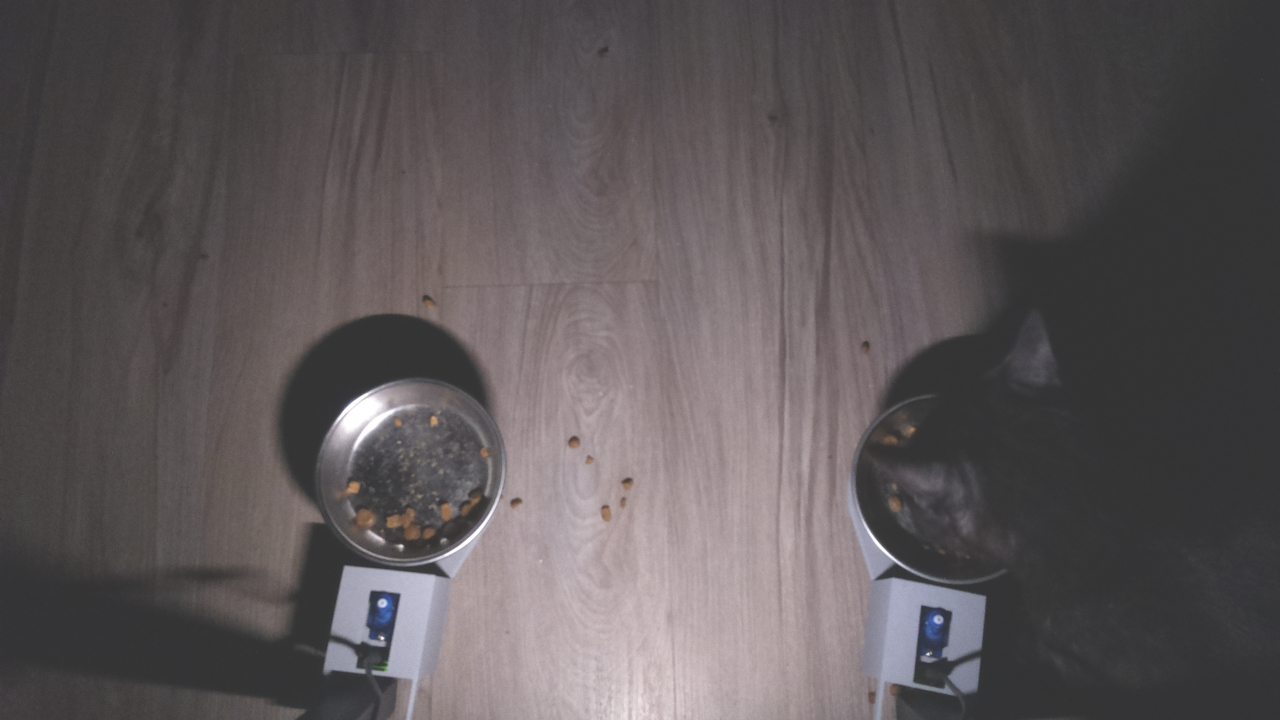open_bowl: (304, 372, 511, 576)
saki_eating: (844, 300, 1125, 601)
